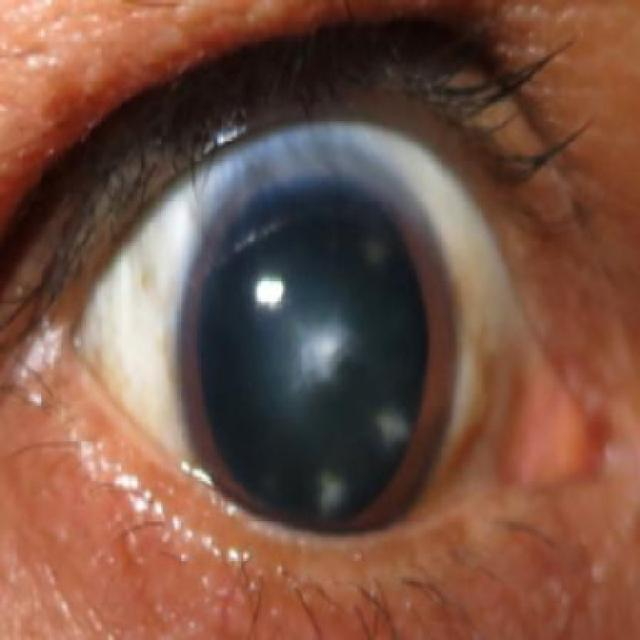Cataract: (171, 134, 462, 596)
